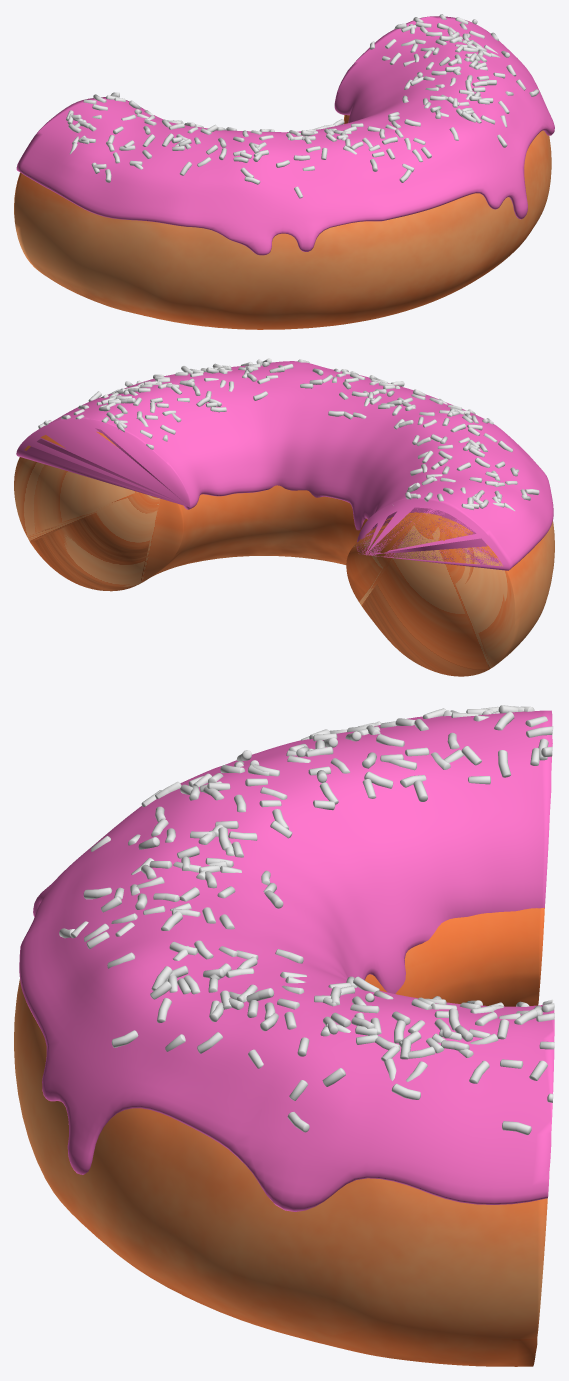
Rendered from Down.fbx.
3 views of the same model, one above another, from view 1: azimuth 30°, elevation 25°; view 2: azimuth 150°, elevation 25°; view 3: azimuth 270°, elevation 25° (orthographic). The views are drawn at different scales.
Visible parts, largest first — view 1: Icing_Torus.005, Donut_Torus.002, Sprinkle.002_Sphere; view 2: Icing_Torus.005, Donut_Torus.002, Sprinkle.002_Sphere; view 3: Icing_Torus.005, Donut_Torus.002, Sprinkle.002_Sphere.
Part boxes in pixels (x1,y1,x2,y2): Icing_Torus.005: (16, 16, 554, 255); Donut_Torus.002: (14, 115, 551, 329); Sprinkle.002_Sphere: (66, 14, 538, 198); Icing_Torus.005: (16, 361, 553, 570); Donut_Torus.002: (14, 431, 554, 676); Sprinkle.002_Sphere: (38, 358, 539, 510); Icing_Torus.005: (19, 710, 554, 1211); Donut_Torus.002: (14, 908, 547, 1366); Sprinkle.002_Sphere: (59, 705, 554, 1134).
Bounding box in the file's own units: 15.79 × 5.48 × 8.17.
